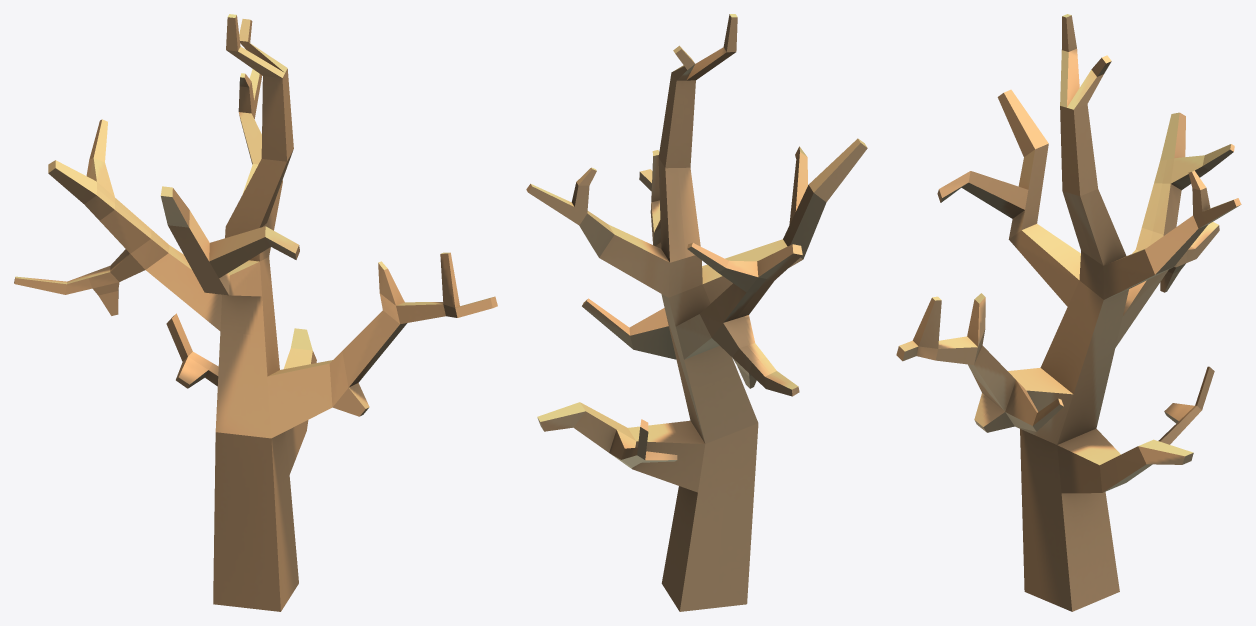
File: dead_pale.glb
3 views of the same model, side by side, from view 1: azimuth 30°, elevation 25°; view 2: azimuth 150°, elevation 25°; view 3: azimuth 270°, elevation 25° (orthographic). The views are drawn at different scales.
Visible parts, largest first — view 1: dead_tree; view 2: dead_tree; view 3: dead_tree.
Part boxes in pixels (bbox=[...]): dead_tree: bbox=[14, 14, 497, 611]; dead_tree: bbox=[526, 14, 867, 611]; dead_tree: bbox=[896, 14, 1241, 611].
Bounding box in the file's own units: 1.28 × 2.23 × 1.24.
Materials: 1 (1 with a texture image).
